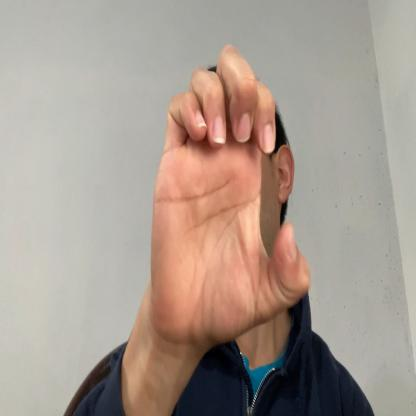E: (152, 41, 309, 338)
